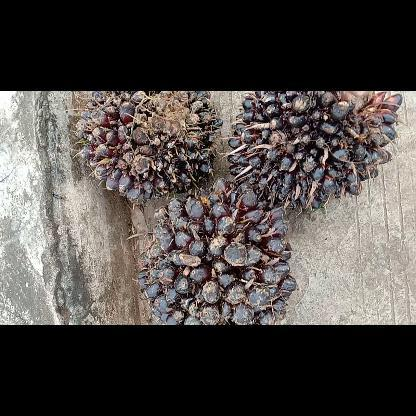TBS mentah: (137, 174, 299, 324), (224, 91, 408, 215), (72, 91, 224, 207)
